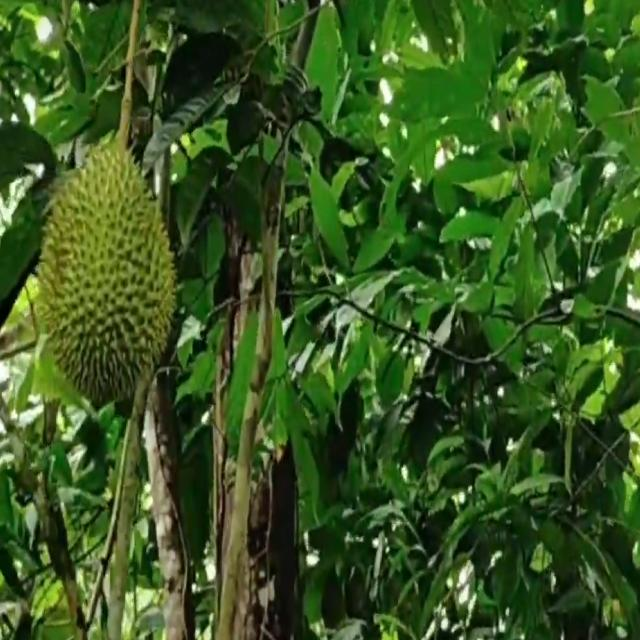immature: (36, 136, 178, 408)
